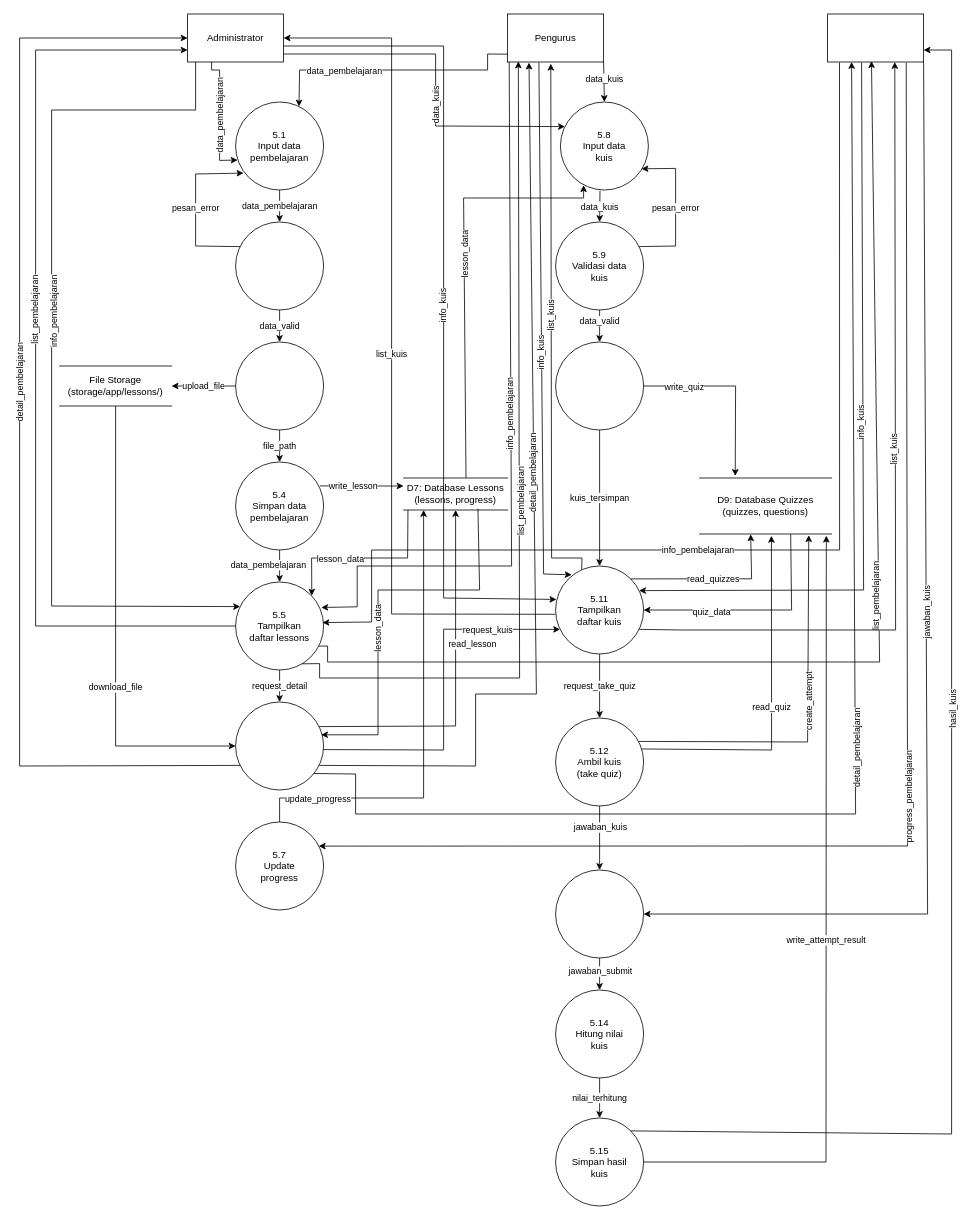
The diagram is 972 pixels wide and 1220 high, and some of its shapes have lost their labels. The box of each missing label's shape, as (x1, y1, x2, y2) in pixels:
5.10 Simpan data kuis: (555, 341, 644, 430)
5.13 Submit jawaban: (555, 869, 644, 958)
5.2 Validasi data pembelajaran: (235, 221, 324, 310)
5.3 Upload file pembelajaran: (235, 341, 324, 430)
5.6 Tampilkan detail lesson: (235, 701, 324, 790)
Anggota: (827, 13, 924, 62)
